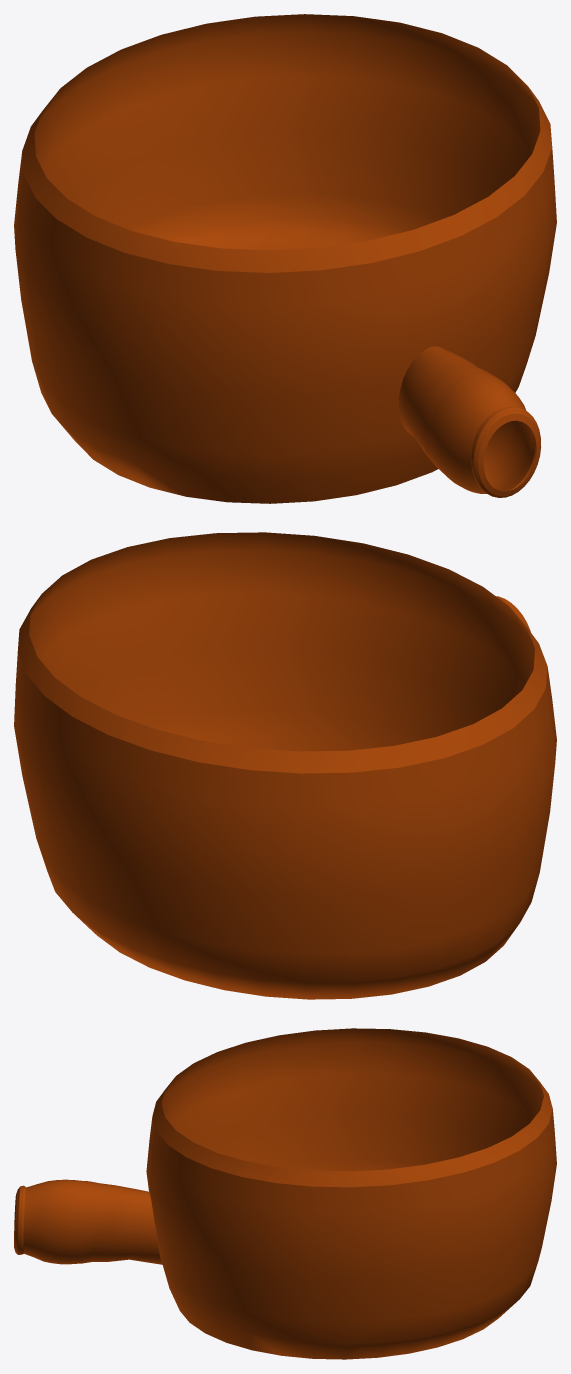
The model's file is Tigan.fbx.
3 views of the same model, one above another, from view 1: azimuth 30°, elevation 25°; view 2: azimuth 150°, elevation 25°; view 3: azimuth 270°, elevation 25° (orthographic). The views are drawn at different scales.
Visible parts, largest first — view 1: Cylinder.003; view 2: Cylinder.003; view 3: Cylinder.003.
Boxes of the visible parts, x1,y1,x2,y2 form: Cylinder.003: (14,14,556,503); Cylinder.003: (14,532,556,999); Cylinder.003: (14,1028,556,1359).
Bounding box in the file's own units: 203 × 119 × 268.
